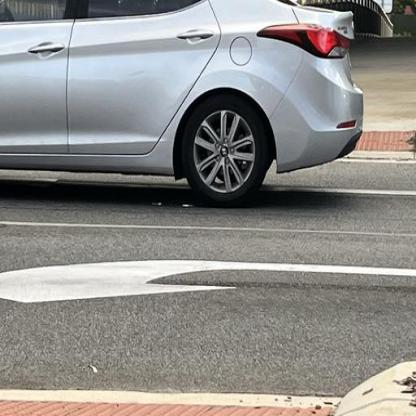Tire: (181, 94, 267, 206)
